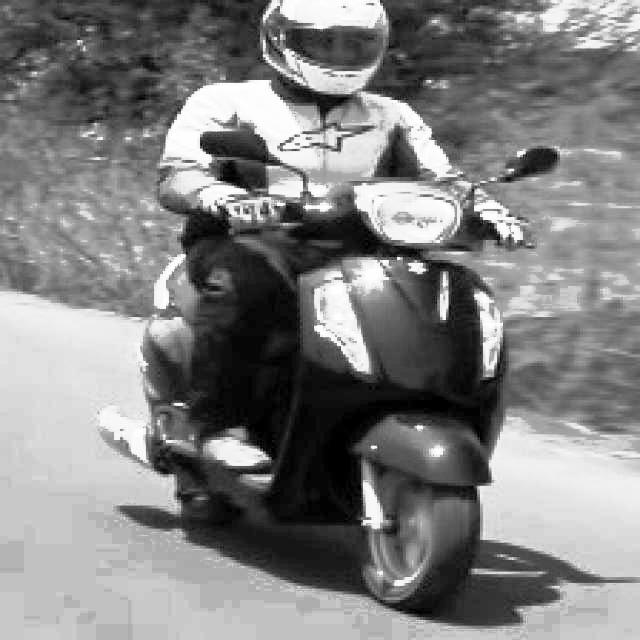Bike: (132, 185, 520, 609)
